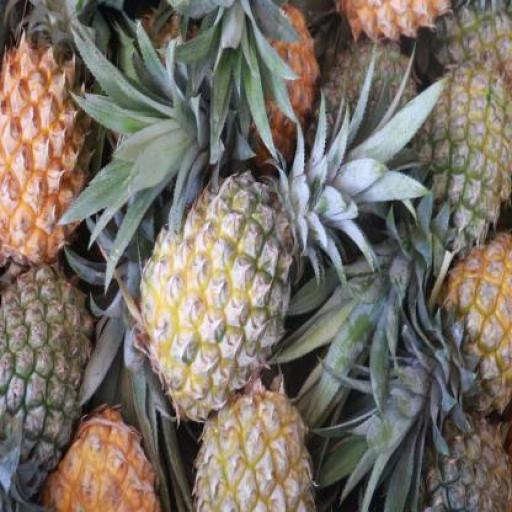------------------------------: (137, 180, 289, 428), (412, 59, 512, 255), (192, 374, 314, 512)
Pineapple - v8 v1: (0, 32, 96, 272), (37, 402, 165, 511)
